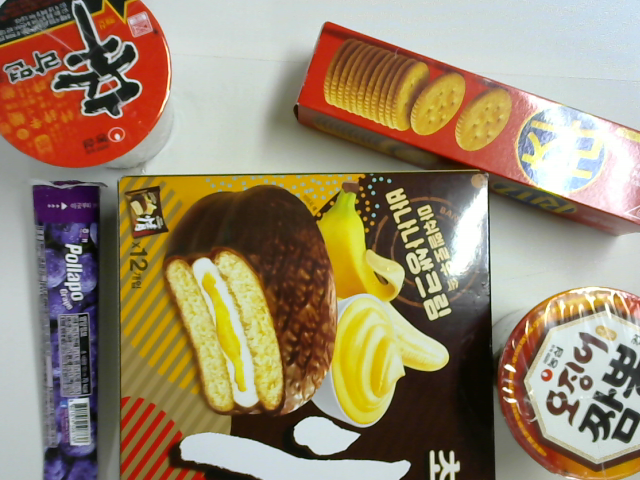Choco_Pie_Banana: (121, 172, 493, 480)
Ojjam: (492, 287, 640, 478)
Polapo_Grape: (27, 176, 111, 480)
Ritz_Cracker: (292, 22, 640, 236)
Sinramen_small: (1, 2, 172, 169)
